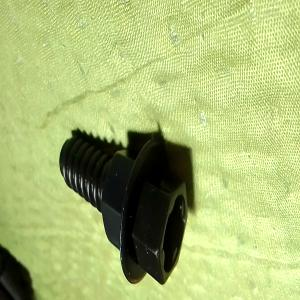parafuso: (59, 132, 189, 286)
